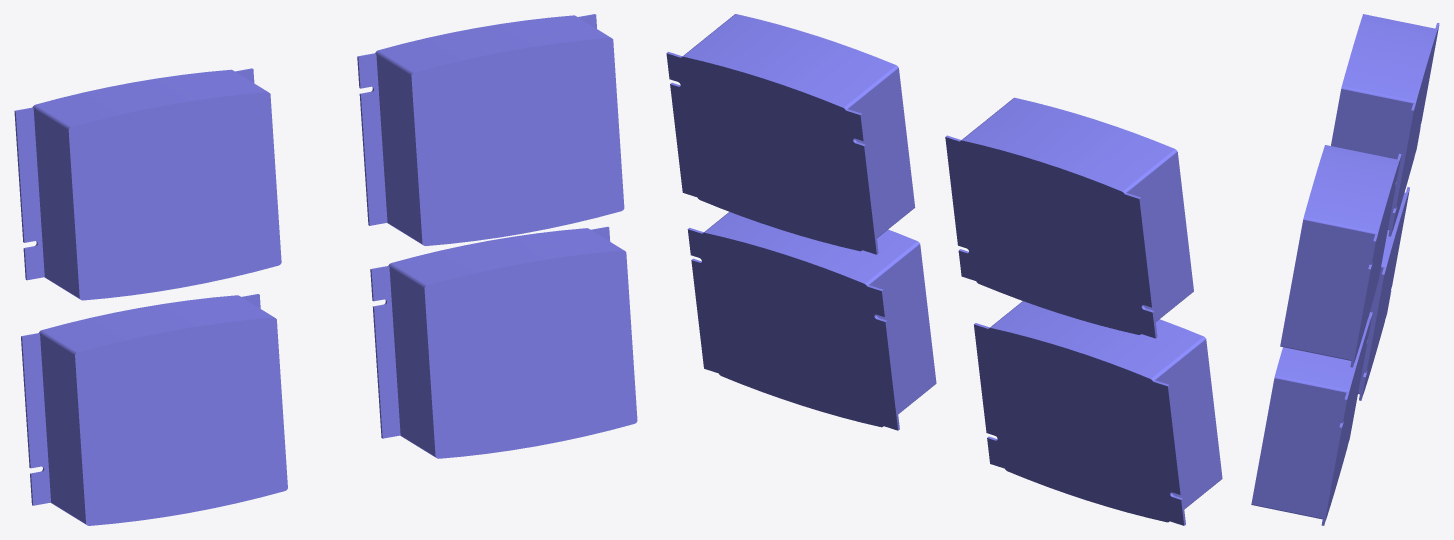
Rendered from POWER ARCHITECTURE__ELEC BOARD COMPONENTS__MPPT250_70-Tr solar charge controller.glb.
3 views of the same model, side by side, from view 1: azimuth 30°, elevation 25°; view 2: azimuth 150°, elevation 25°; view 3: azimuth 270°, elevation 25° (orthographic). The views are drawn at different scales.
Bounding box in the file's own units: 0.6221 × 0.421 × 0.2259.
